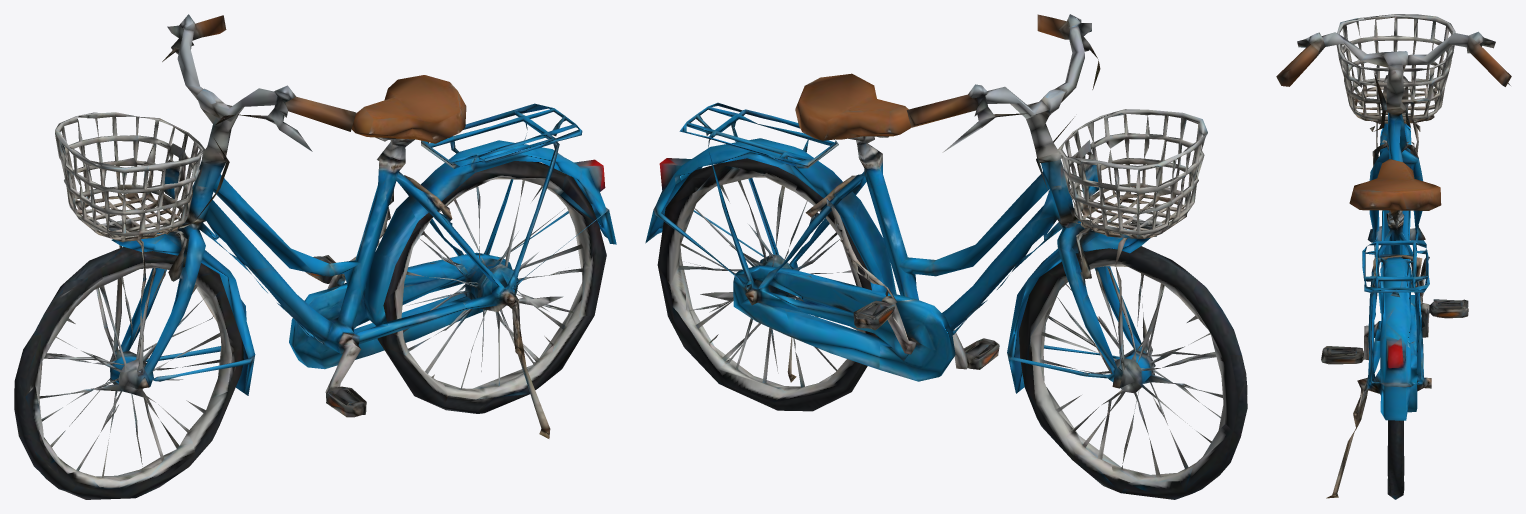
File: env_bicycle.glb
3 renders of one model, left to right at view 1: azimuth 30°, elevation 25°; view 2: azimuth 150°, elevation 25°; view 3: azimuth 270°, elevation 25°, orthographic. The views are drawn at different scales.
Parts seen in each view (by area): view 1: tripo_node_cbb20774-efa1-440f-8983-e6d98994bcd5; view 2: tripo_node_cbb20774-efa1-440f-8983-e6d98994bcd5; view 3: tripo_node_cbb20774-efa1-440f-8983-e6d98994bcd5.
Part boxes in pixels (x1,y1,x2,y2): tripo_node_cbb20774-efa1-440f-8983-e6d98994bcd5: [14, 14, 616, 499]; tripo_node_cbb20774-efa1-440f-8983-e6d98994bcd5: [645, 14, 1247, 499]; tripo_node_cbb20774-efa1-440f-8983-e6d98994bcd5: [1276, 14, 1511, 499].
Bounding box in the file's own units: 0.9765 × 0.6645 × 0.3982.
Materials: 1 (1 with a texture image).
